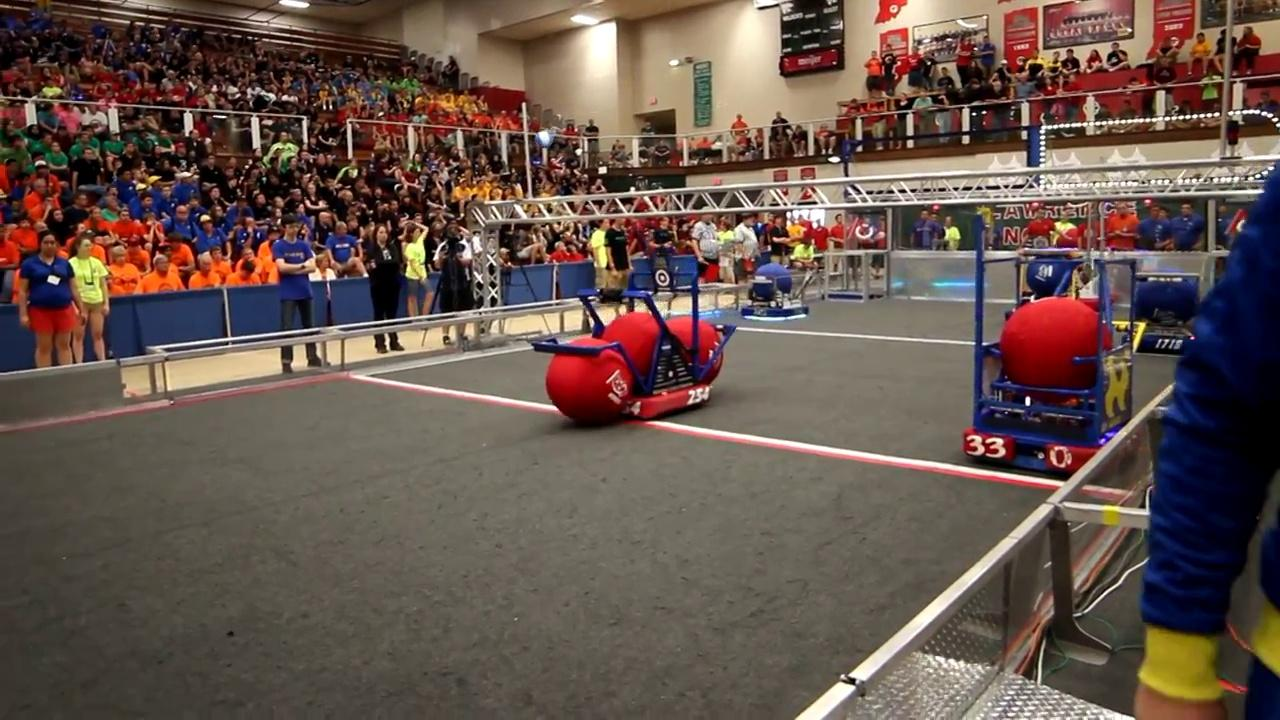robot: (958, 210, 1141, 474), (530, 242, 738, 421), (1124, 266, 1202, 357), (739, 260, 813, 323)
